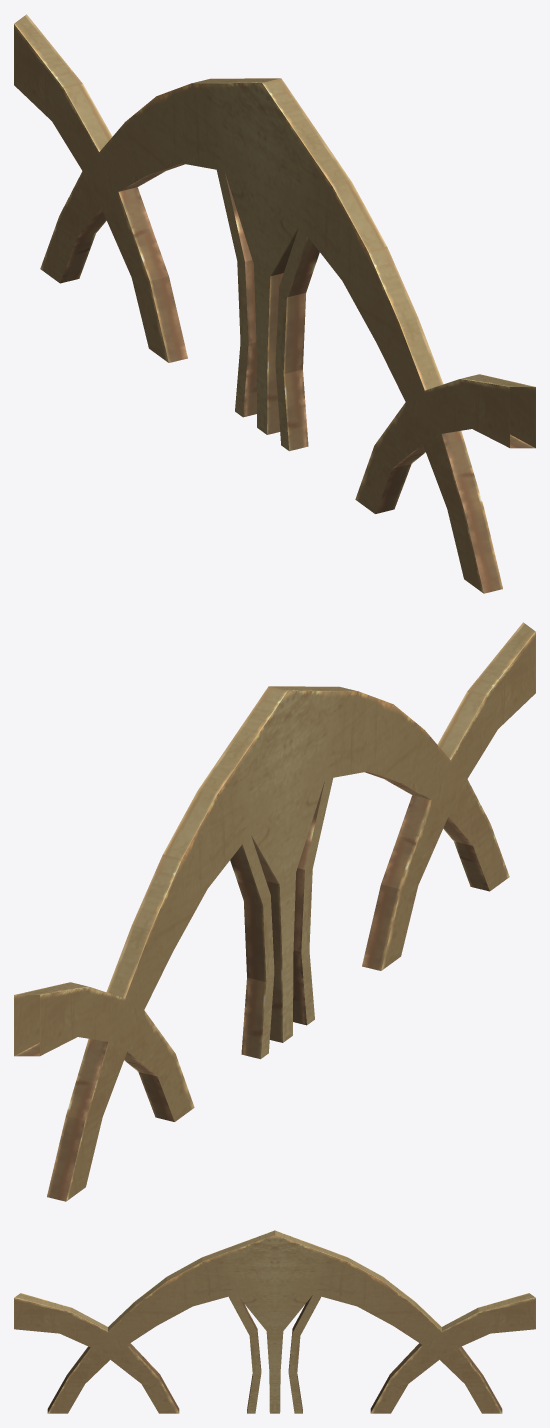
File: Main_Enclosure_01.FBX
The picture shows the model from 3 angles, top to bottom: view 1: azimuth 30°, elevation 25°; view 2: azimuth 150°, elevation 25°; view 3: azimuth 270°, elevation 25°; orthographic projection. The views are drawn at different scales.
Parts seen in each view (by area): view 1: Main_Enclosure_01; view 2: Main_Enclosure_01; view 3: Main_Enclosure_01.
Boxes of the visible parts, x1,y1,x2,y2 form: Main_Enclosure_01: [14, 14, 535, 593]; Main_Enclosure_01: [14, 622, 535, 1201]; Main_Enclosure_01: [14, 1230, 535, 1413].
Size of the model in its own units: 0.1168 by 2.02 by 5.34.
